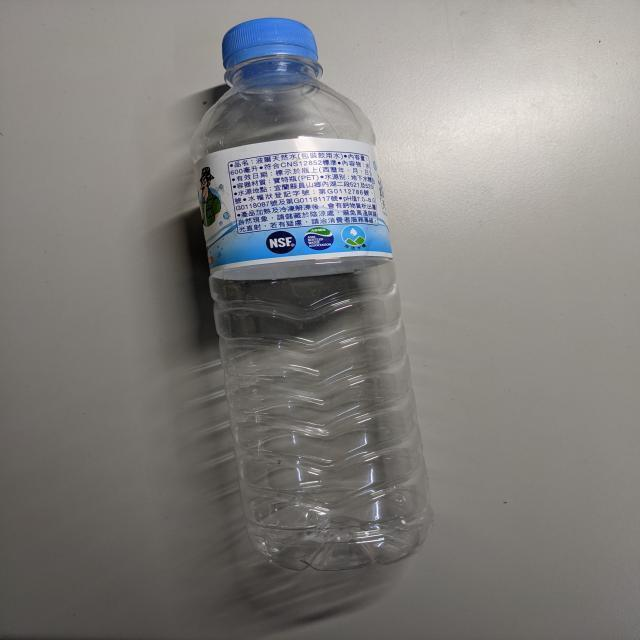Plastic: (184, 17, 440, 564)
